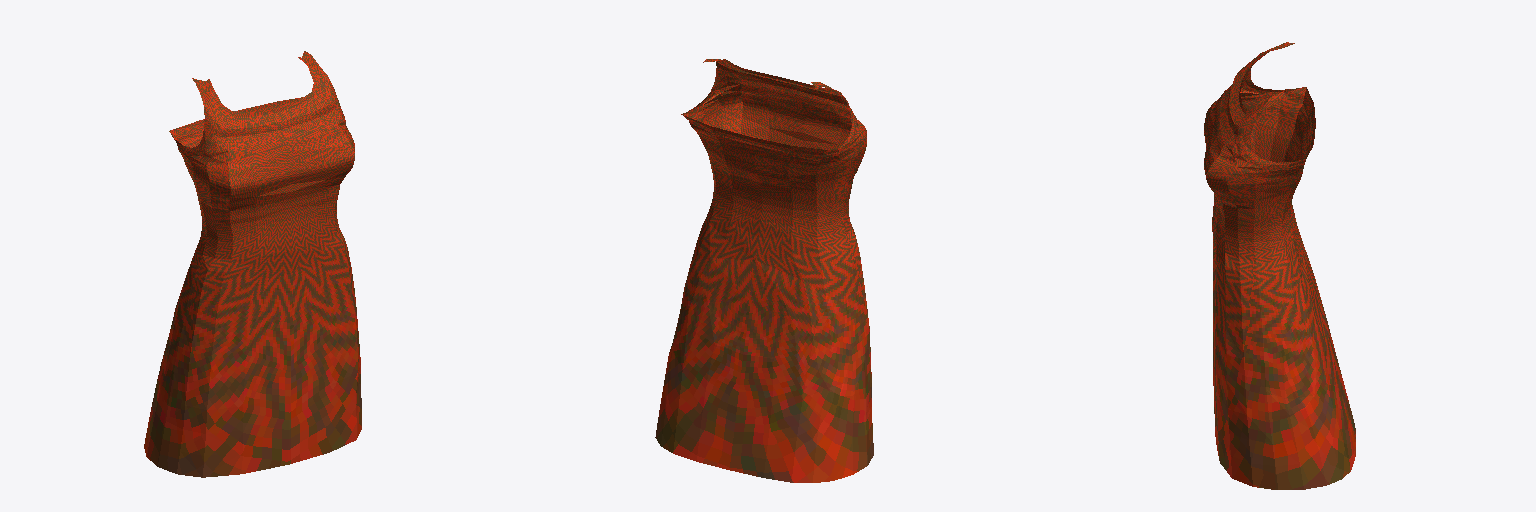
3 views of the same model, side by side, from view 1: azimuth 30°, elevation 25°; view 2: azimuth 150°, elevation 25°; view 3: azimuth 270°, elevation 25° (orthographic).
Visible parts, largest first — view 1: V4_Dress_Starter; view 2: V4_Dress_Starter; view 3: V4_Dress_Starter.
Boxes of the visible parts, x1,y1,x2,y2 form: V4_Dress_Starter: [144, 51, 361, 477]; V4_Dress_Starter: [655, 59, 873, 482]; V4_Dress_Starter: [1204, 42, 1355, 489].
Size of the model in its own units: 0.4642 by 0.834 by 0.3101.
Materials: 1 (1 with a texture image).